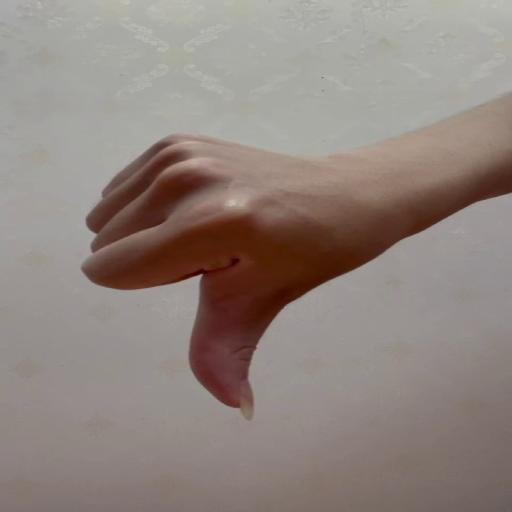thumbs_down: (84, 133, 374, 424)
